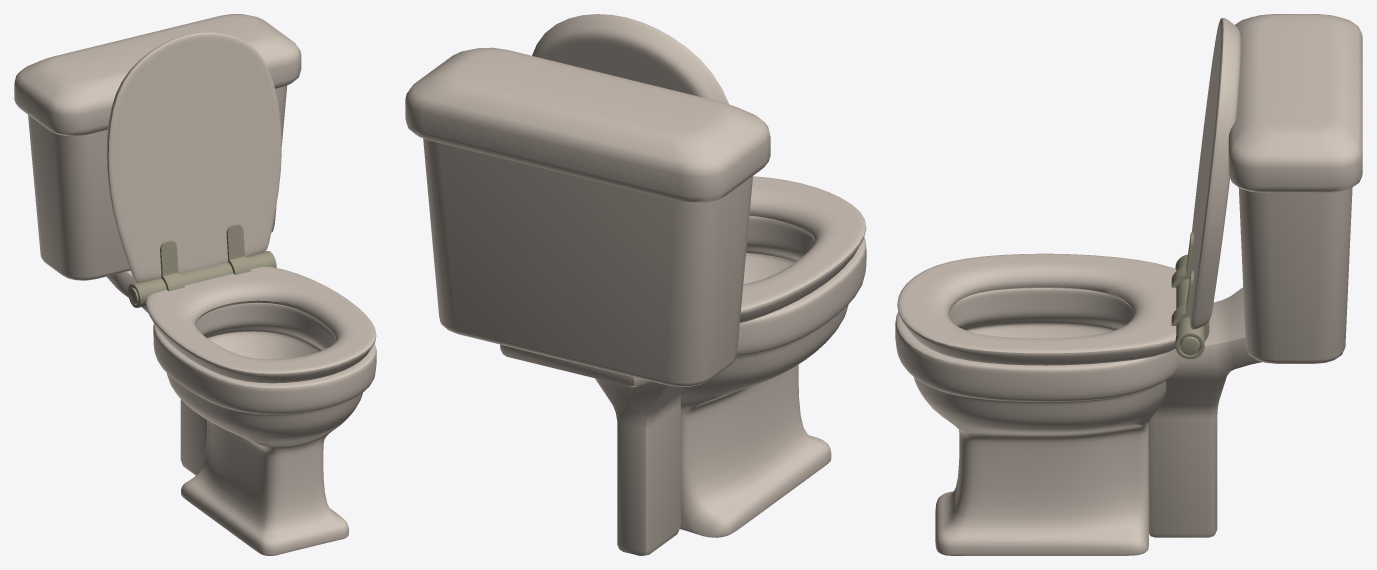
File: opencloset.glb
3 views of the same model, side by side, from view 1: azimuth 30°, elevation 25°; view 2: azimuth 150°, elevation 25°; view 3: azimuth 270°, elevation 25° (orthographic). The views are drawn at different scales.
Parts seen in each view (by area): view 1: Toilet; view 2: Toilet; view 3: Toilet.
Part boxes in pixels (bbox=[...]): Toilet: bbox=[14, 14, 376, 555]; Toilet: bbox=[405, 14, 866, 555]; Toilet: bbox=[895, 14, 1362, 555].
Size of the model in its own units: 0.8388 by 1.37 by 1.15.
